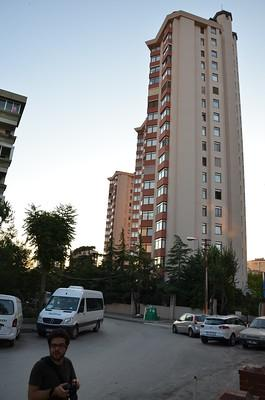building: (130, 5, 245, 312), (99, 169, 132, 278)
